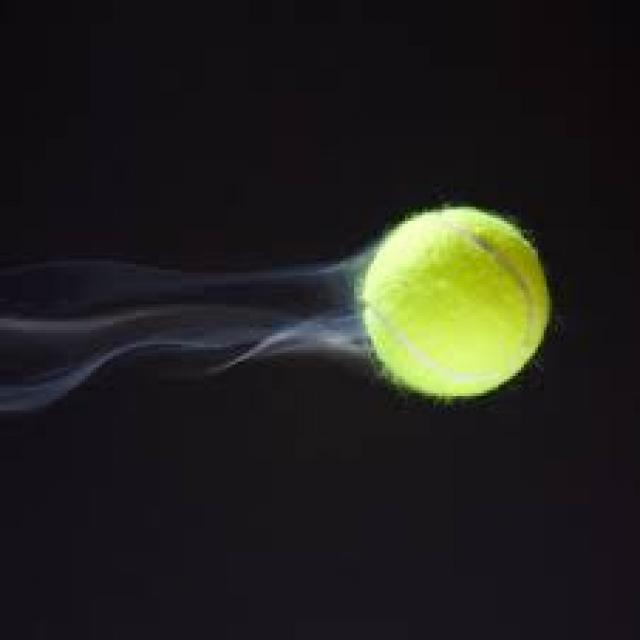Tennis-Ball: (356, 200, 554, 413)
